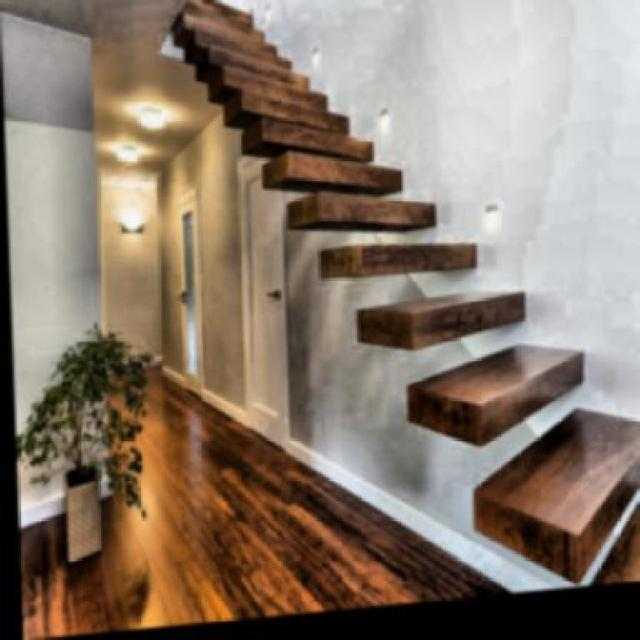stair: (257, 8, 637, 462)
